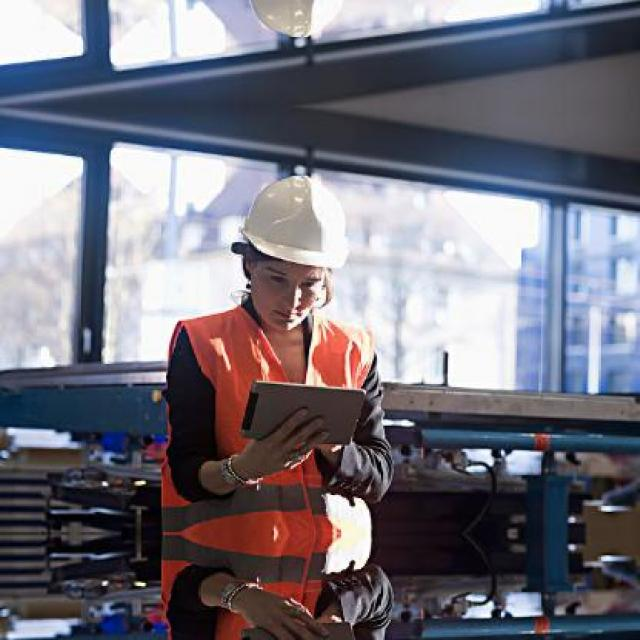Reflective-Jacket: (149, 306, 383, 562)
Safety-Helmet: (224, 167, 364, 280)
